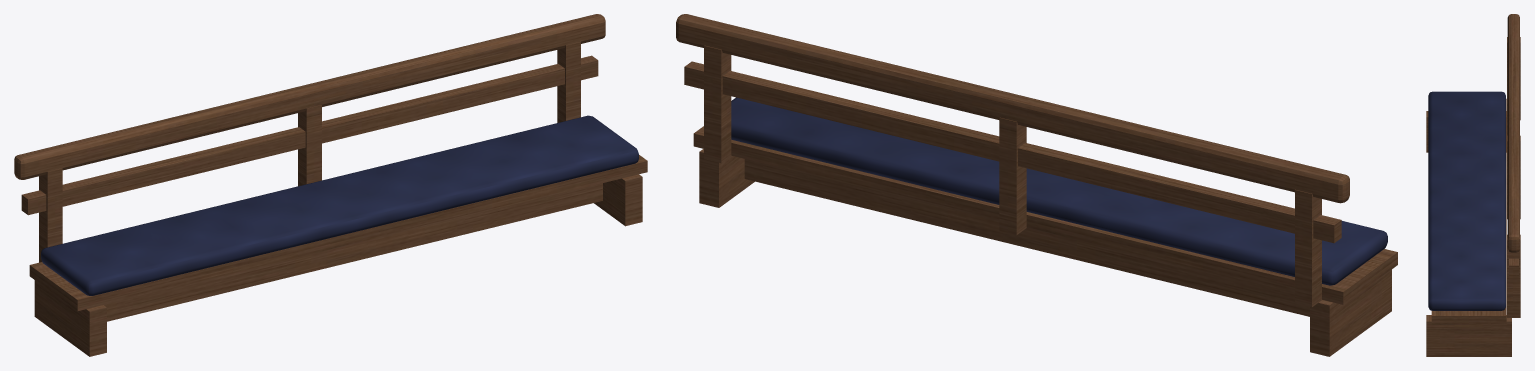
The model's file is waiting-bench.glb.
3 renders of one model, left to right at view 1: azimuth 30°, elevation 25°; view 2: azimuth 150°, elevation 25°; view 3: azimuth 270°, elevation 25°, orthographic. The views are drawn at different scales.
Parts seen in each view (by area): view 1: WB-Wood, WB-Cushion; view 2: WB-Wood, WB-Cushion; view 3: WB-Cushion, WB-Wood.
Boxes of the visible parts, x1,y1,x2,y2 form: WB-Wood: [14, 14, 647, 356]; WB-Cushion: [41, 115, 638, 295]; WB-Wood: [676, 14, 1397, 356]; WB-Cushion: [731, 97, 1387, 285]; WB-Cushion: [1428, 91, 1505, 310]; WB-Wood: [1426, 14, 1520, 356].
Bounding box in the file's own units: 0.136 × 0.036 × 0.0242.
Materials: 2 (2 with a texture image).
